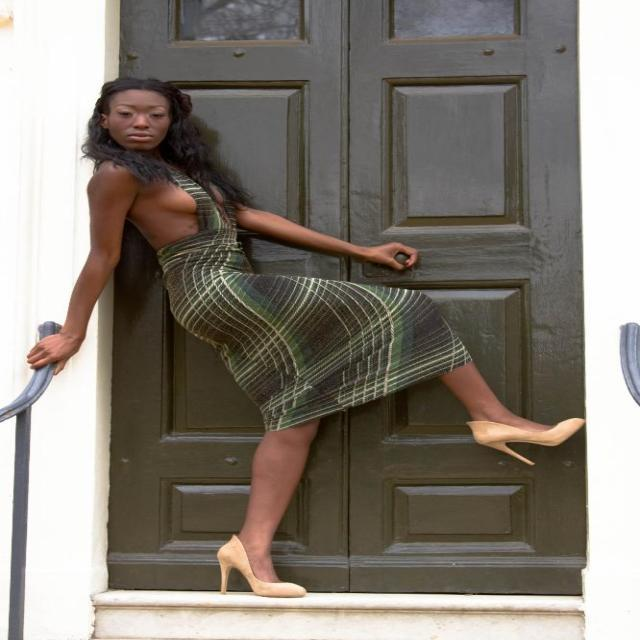door: (88, 0, 600, 601)
